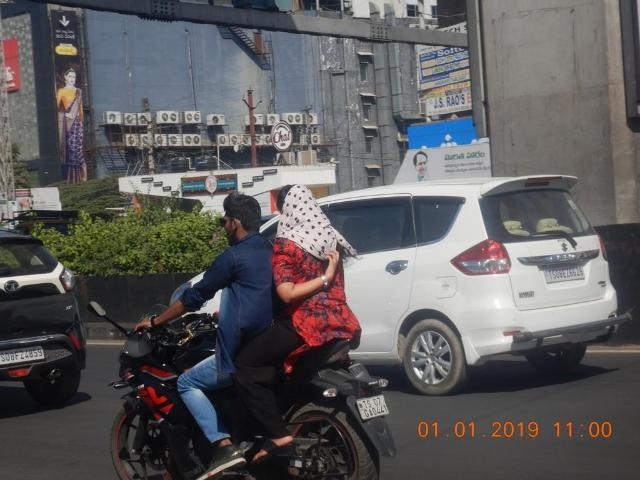motor: (111, 319, 394, 480)
non-helm: (223, 195, 262, 247), (277, 186, 315, 227)
